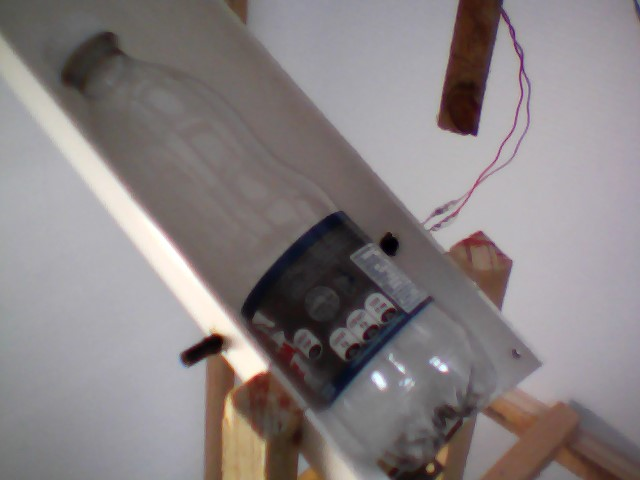plastico: (37, 5, 499, 477)
